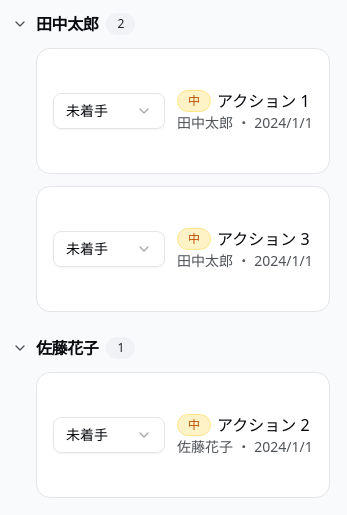
Test case: ActionListGrouped › 折りたたみ機能 › 折りたたんだグループを再クリックすると展開される
Click the button "田中太郎 2".
click(67, 24)  # box x1=12 y1=12 x2=330 y2=36
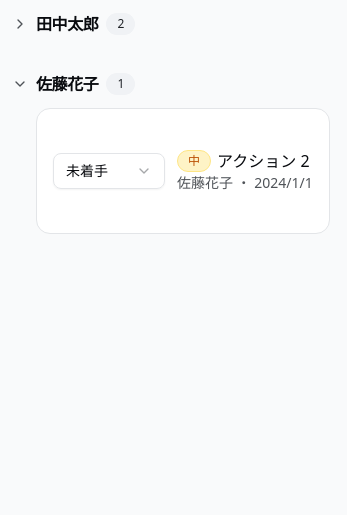
Click the button "田中太郎 2".
click(67, 24)  # box x1=12 y1=12 x2=330 y2=36
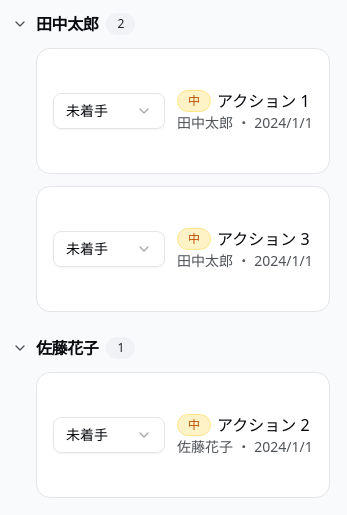
Expected: the text "アクション 1" is shown, x1=217 y1=89 x2=310 y2=113
